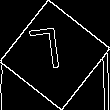L_S: (37, 28, 73, 82)
